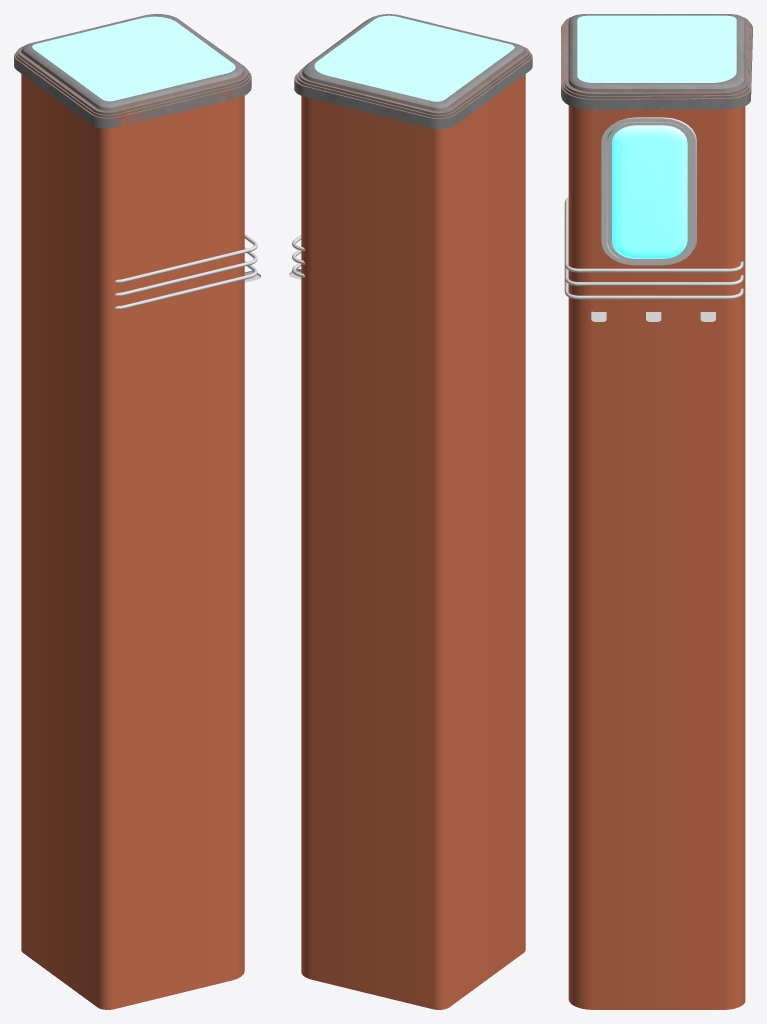
The picture shows the model from 3 angles, left to right: view 1: azimuth 30°, elevation 25°; view 2: azimuth 150°, elevation 25°; view 3: azimuth 270°, elevation 25°; orthographic projection. The views are drawn at different scales.
Parts seen in each view (by area): view 1: Cube.033, Cube.001; view 2: Cube.033; view 3: Cube.033, Cube.017, Cube.001, Cube.016.
Part boxes in pixels (left/top/right/bottom): Cube.033: left=14, top=14, right=251, bottom=1009; Cube.001: left=114, top=234, right=257, bottom=309; Cube.033: left=294, top=14, right=532, bottom=1009; Cube.033: left=561, top=14, right=752, bottom=1009; Cube.017: left=601, top=117, right=696, bottom=265; Cube.001: left=564, top=197, right=743, bottom=299; Cube.016: left=591, top=311, right=715, bottom=321.
Bounding box in the file's own units: 2.35 × 11.51 × 2.17.
Materials: 4 (1 with a texture image).
